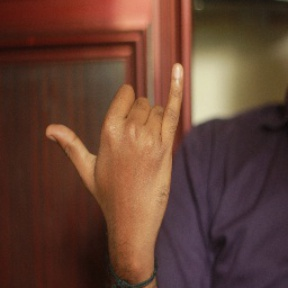J: (45, 63, 191, 231)
